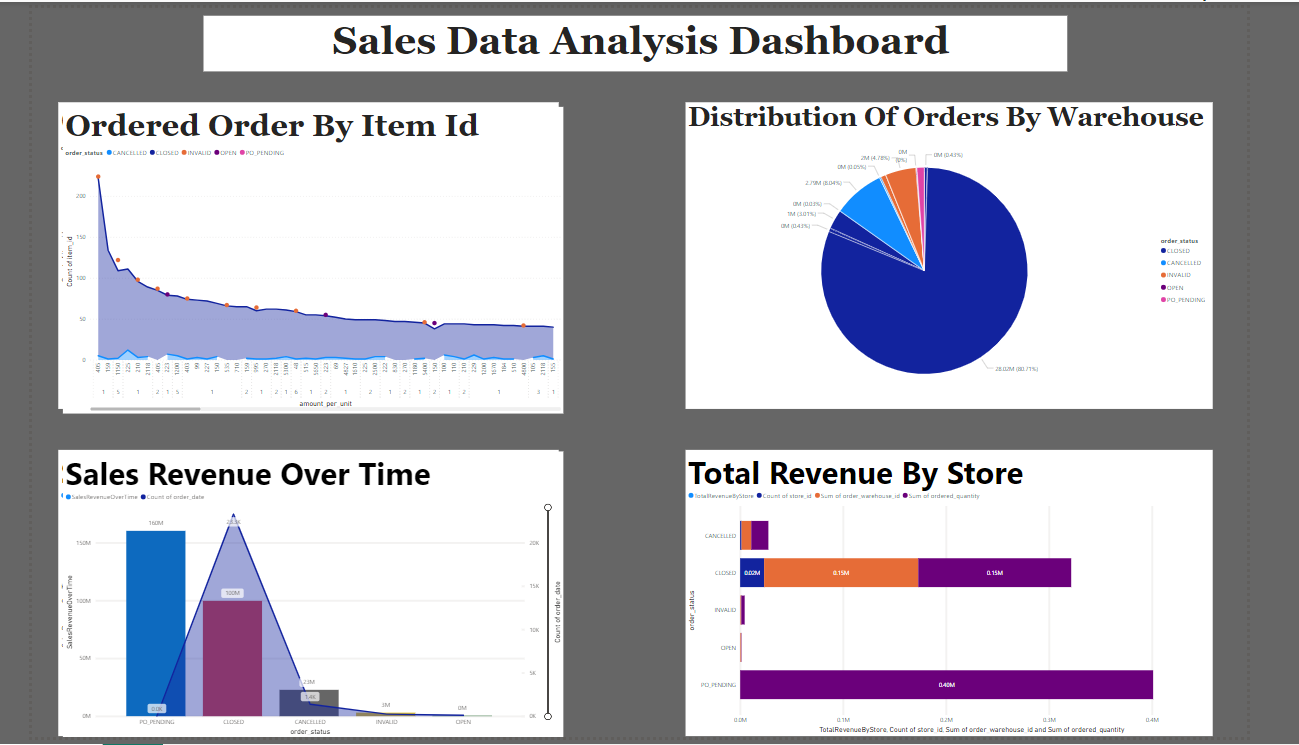

Layout of this report page (visuals, bound fields, positions):
{"tool":"powerbi","page":{"name":"Page 1","canvas":[2500,1500],"ordinal":0},"visuals":[{"type":"lineStackedColumnComboChart","title":"Sales Revenue Over Time ","fields":{"Y":["Sales data (2).SalesRevenueOverTime"],"Y2":["CountNonNull(Sales data (2).order_date)"],"Category":["Sales data (2).order_status"]},"box":[54.7,910.8,1029.9,589],"z":0},{"type":"textbox","box":[352.9,15.9,1777.1,114.4],"z":1000},{"type":"barChart","title":"Total Revenue By Store ","fields":{"Y":["Sales data (2).TotalRevenueByStore","CountNonNull(Sales data (2).store_id)","Sum(Sales data (2).order_warehouse_id)","Sum(Sales data (2).ordered_quantity)"],"Category":["Sales data (2).order_status"]},"box":[1345.3,910.8,1084.6,589],"z":2000},{"type":"pieChart","title":"Distribution Of Orders By Warehouse","fields":{"Y":["Sum(Sales data (2).order_warehouse_id)","CountNonNull(Sales data (2).expected_delivery_date)","Sum(Sales data (2).amount_per_unit)","Sum(Sales data (2).ordered_quantity)","CountNonNull(Sales data (2).order_date)","Sales data (2).TotalRevenueByStore","CountNonNull(Sales data (2).item_id)","Sales data (2).TotalRevenueByStore","Sum(Sales data (2).item_discount)"],"Category":["Sales data (2).order_status"]},"box":[1345.3,193.1,1084.6,630.8],"z":3000},{"type":"stackedAreaChart","title":"Ordered Order By Item Id","fields":{"Category":["Sales data (2).ordered_quantity","Sales data (2).amount_per_unit"],"Series":["Sales data (2).order_status"],"Y":["CountNonNull(Sales data (2).item_id)"]},"box":[54.7,193.1,1029.9,630.8],"z":3001},{"type":"stackedAreaChart","title":"Ordered Order By Item Id","fields":{"Category":["Sales data (2).ordered_quantity","Sales data (2).amount_per_unit"],"Series":["Sales data (2).order_status"],"Y":["CountNonNull(Sales data (2).item_id)"]},"box":[64.7,203.1,1029.9,630.8],"z":3002},{"type":"lineStackedColumnComboChart","title":"Sales Revenue Over Time ","fields":{"Y":["Sales data (2).SalesRevenueOverTime"],"Y2":["CountNonNull(Sales data (2).order_date)"],"Category":["Sales data (2).order_status"]},"box":[64.7,911,1029.9,589],"z":3003}]}

Visuals, with their boxes in screenshot pixels (x1, y1, x2, y2):
"Sales Revenue Over Time " lineStackedColumnComboChart: <box>50,446,554,734</box>
textbox: <box>196,8,1066,64</box>
"Total Revenue By Store " barChart: <box>682,446,1213,734</box>
"Distribution Of Orders By Warehouse" pieChart: <box>682,94,1213,403</box>
"Ordered Order By Item Id" stackedAreaChart: <box>50,94,554,403</box>
"Ordered Order By Item Id" stackedAreaChart: <box>55,99,559,408</box>
"Sales Revenue Over Time " lineStackedColumnComboChart: <box>55,446,559,734</box>
